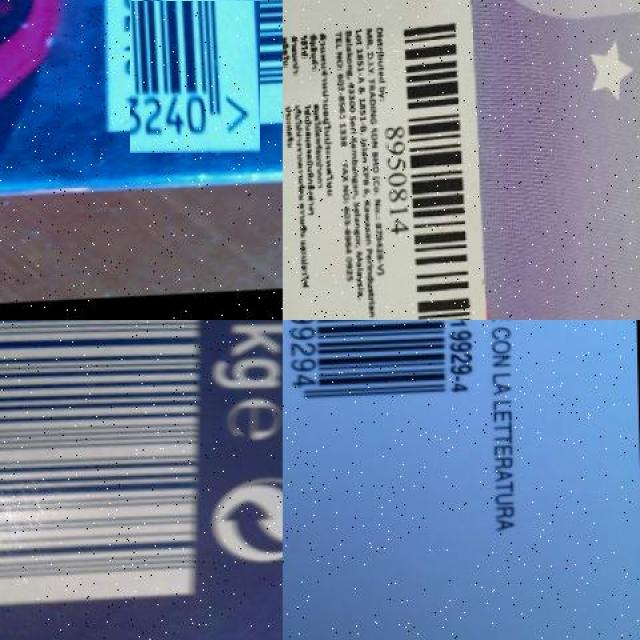Barcode: (0, 320, 210, 604), (386, 5, 478, 320), (118, 0, 272, 142), (283, 320, 481, 421)
